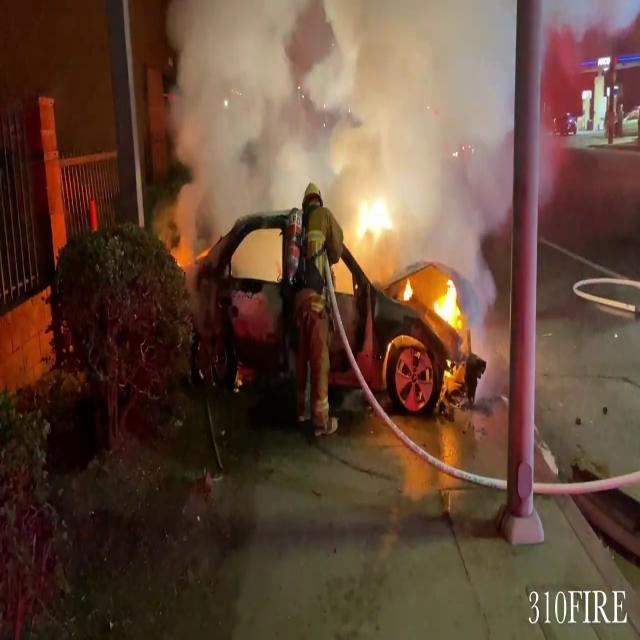Fire: (349, 187, 395, 249), (429, 274, 469, 335)
Smoke: (158, 0, 514, 256), (157, 0, 330, 236)
